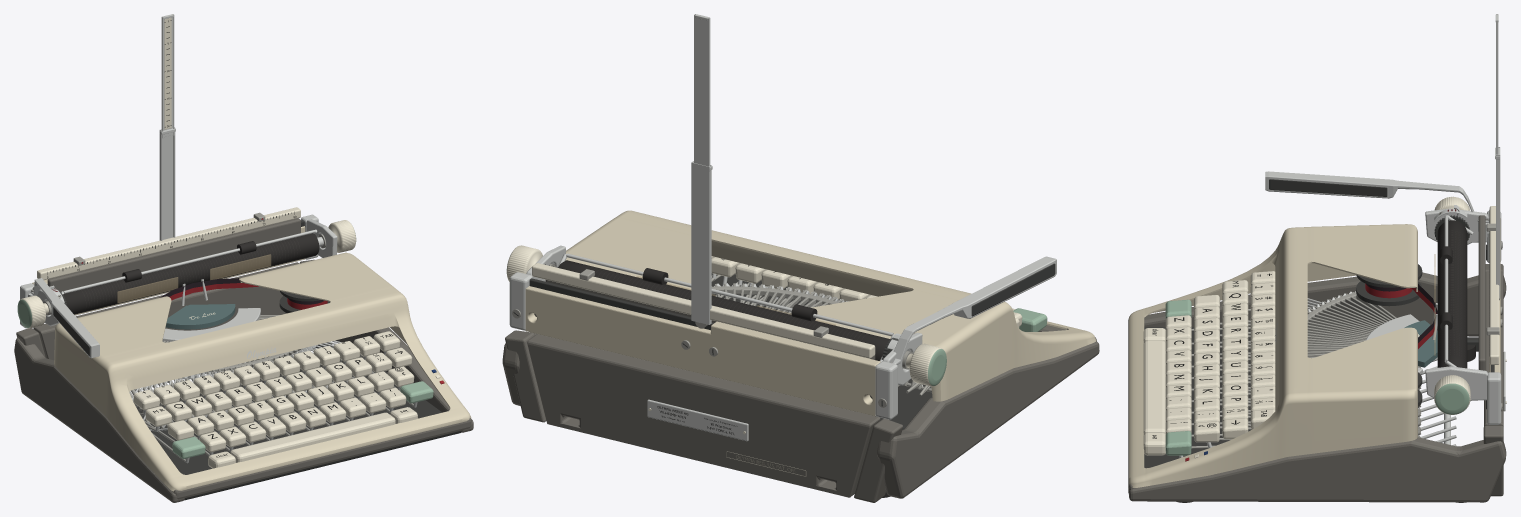
Rendered from Hilda.glb.
The picture shows the model from 3 angles, left to right: view 1: azimuth 30°, elevation 25°; view 2: azimuth 150°, elevation 25°; view 3: azimuth 270°, elevation 25°; orthographic projection. The views are drawn at different scales.
Parts seen in each view (by area): view 1: One-piece rolled ivory cover, Left lower casting, Rubber platen, Paper table, Removable central rear casting, Graduated carriage rail, Lower keyboard well, Front fascia, Spacebar, Paper rest rolled outer channel, De Luxe segment face, Return formed chrome arm (+12 smaller); view 2: Removable central rear casting, One-piece rolled ivory cover, Notched ivory carriage rear, Left lower casting, Graduated carriage rail, Paper rest rolled outer channel, Rubber platen, Paper rest graduated slide, Return formed chrome arm, Metal identification plate, Rear casting side seam, Rear casting side seam.001 (+10 smaller); view 3: One-piece rolled ivory cover, Right lower casting, Rubber platen, Left lower casting, Return formed chrome arm, Spacebar, Graduated carriage rail, HildaReturnGrip, Paper table, Lower keyboard well, HildaPlatenKnobRight, Right carriage bearing cheek (+14 smaller).
Boxes of the visible parts, x1,y1,x2,y2 form: One-piece rolled ivory cover: [54, 252, 471, 491]; Left lower casting: [14, 338, 184, 502]; Rubber platen: [63, 233, 319, 314]; Paper table: [47, 218, 300, 291]; Removable central rear casting: [33, 262, 299, 360]; Graduated carriage rail: [37, 207, 300, 279]; Lower keyboard well: [136, 356, 461, 500]; Front fascia: [172, 418, 471, 499]; Spacebar: [230, 412, 395, 462]; Paper rest rolled outer channel: [159, 127, 175, 240]; De Luxe segment face: [165, 304, 235, 329]; Return formed chrome arm: [30, 278, 99, 358]; Removable central rear casting: [527, 334, 880, 497]; One-piece rolled ivory cover: [565, 210, 1096, 401]; Notched ivory carriage rear: [525, 286, 880, 416]; Left lower casting: [877, 342, 1099, 498]; Graduated carriage rail: [532, 263, 875, 358]; Paper rest rolled outer channel: [691, 161, 711, 324]; Rubber platen: [558, 260, 889, 360]; Paper rest graduated slide: [694, 14, 710, 166]; Return formed chrome arm: [892, 256, 1056, 364]; Metal identification plate: [647, 399, 748, 441]; Rear casting side seam: [854, 418, 902, 502]; Rear casting side seam.001: [505, 330, 546, 422]; One-piece rolled ivory cover: [1129, 224, 1417, 487]; Right lower casting: [1129, 437, 1506, 502]; Rubber platen: [1437, 220, 1467, 368]; Left lower casting: [1144, 272, 1506, 336]; Return formed chrome arm: [1265, 171, 1488, 222]; Spacebar: [1143, 340, 1165, 435]; Graduated carriage rail: [1489, 206, 1499, 364]; HildaReturnGrip: [1269, 179, 1387, 196]; Paper table: [1478, 215, 1485, 370]; Lower keyboard well: [1144, 327, 1250, 468]; HildaPlatenKnobRight: [1434, 375, 1470, 414]; Right carriage bearing cheek: [1425, 366, 1487, 401].
Bounding box in the file's own units: 3.72 × 3.65 × 3.05.
